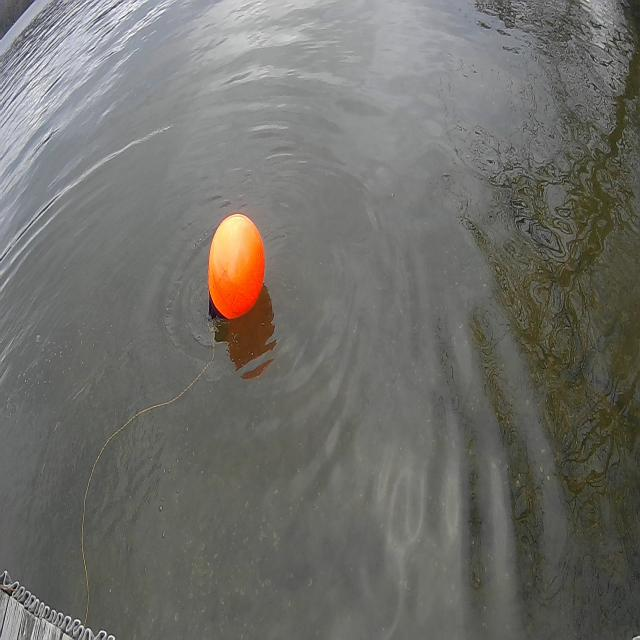Buoy: (205, 204, 268, 327)
